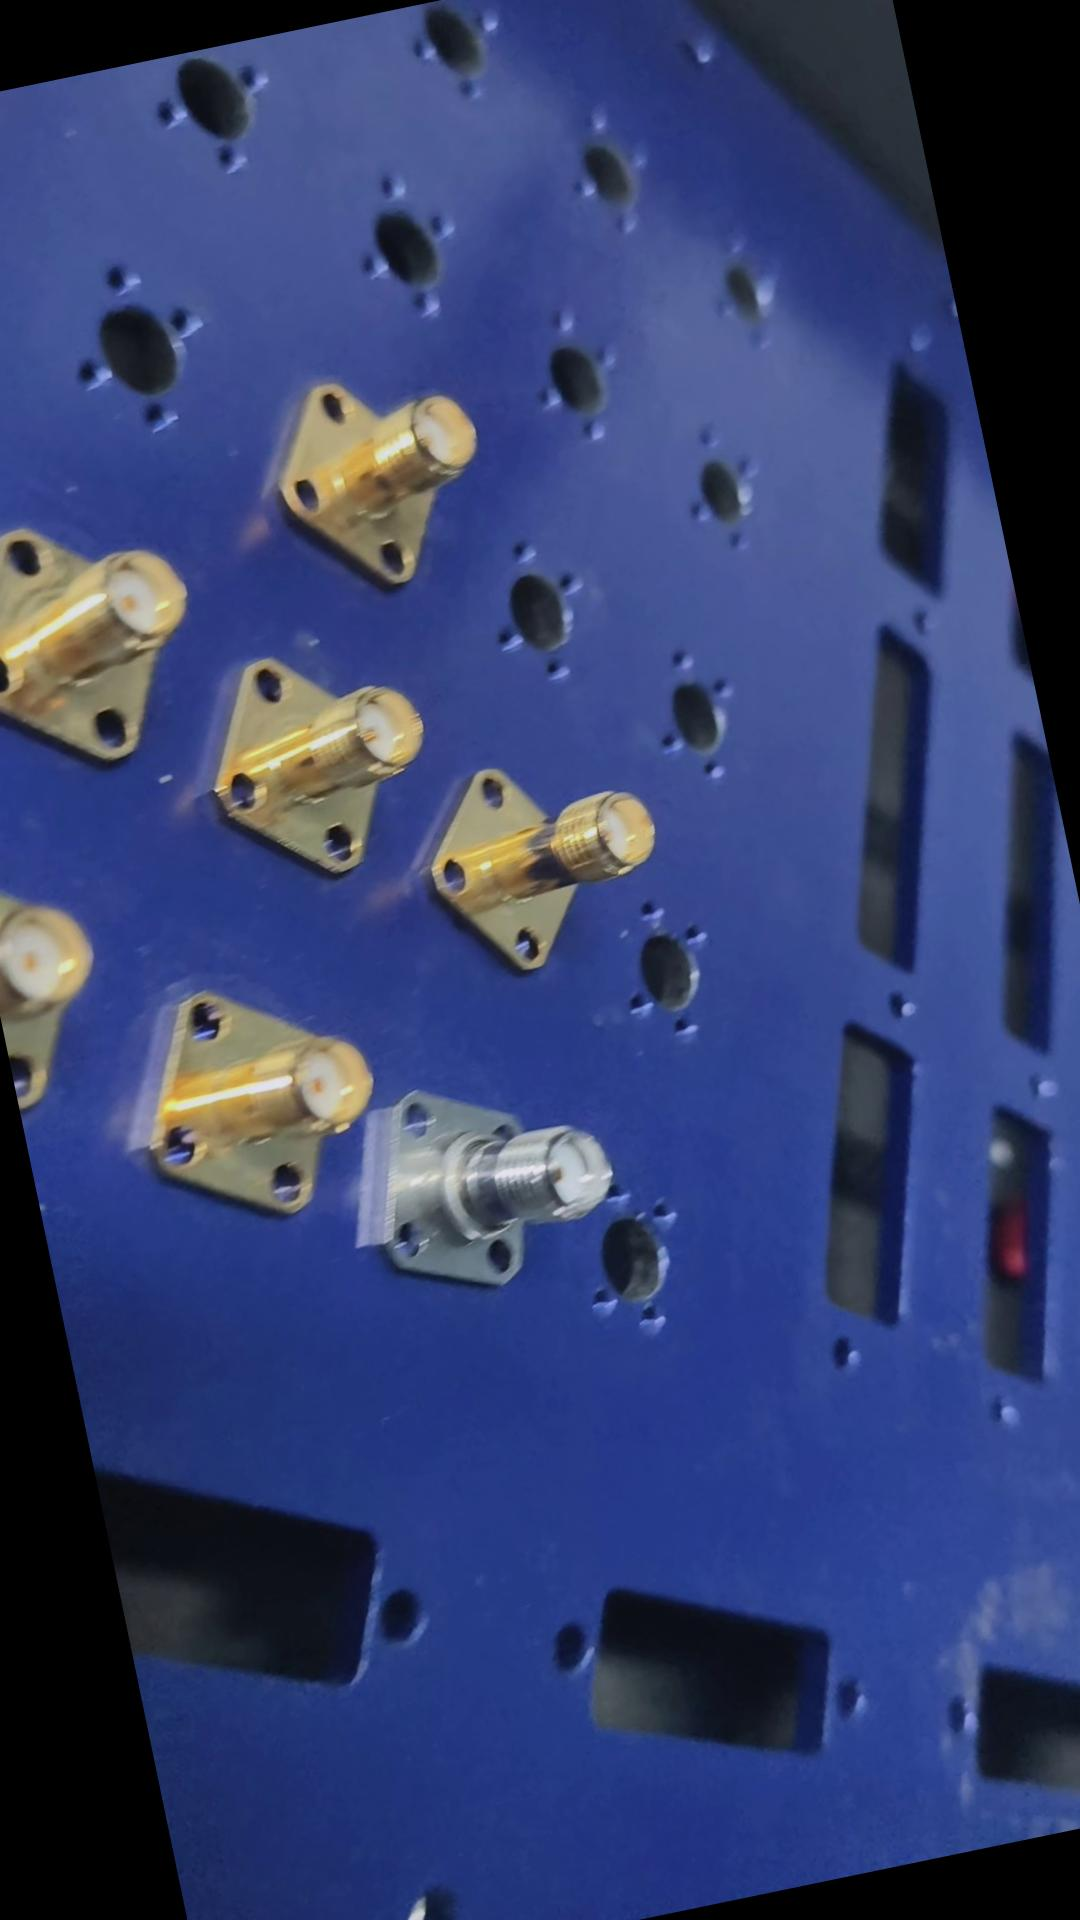SMA: (335, 1029, 633, 1311), (129, 955, 407, 1254), (409, 703, 676, 990), (255, 331, 508, 608), (195, 626, 451, 897)
